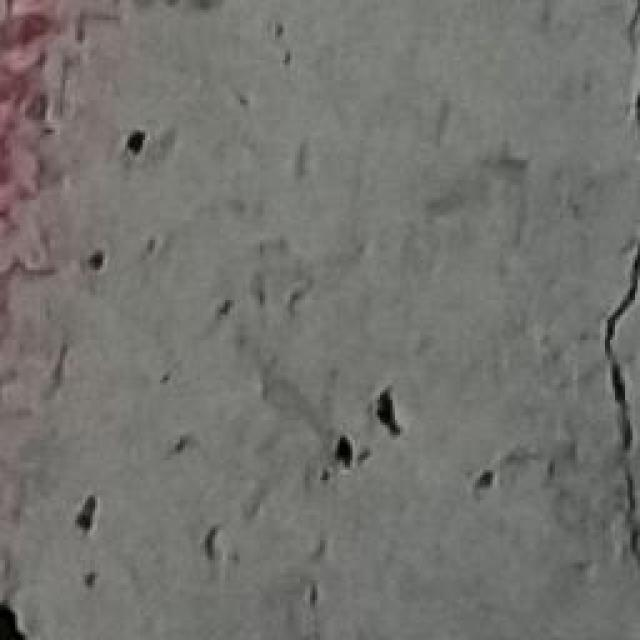Longitudinal: (606, 5, 640, 540)
Rippled: (0, 0, 593, 640)
